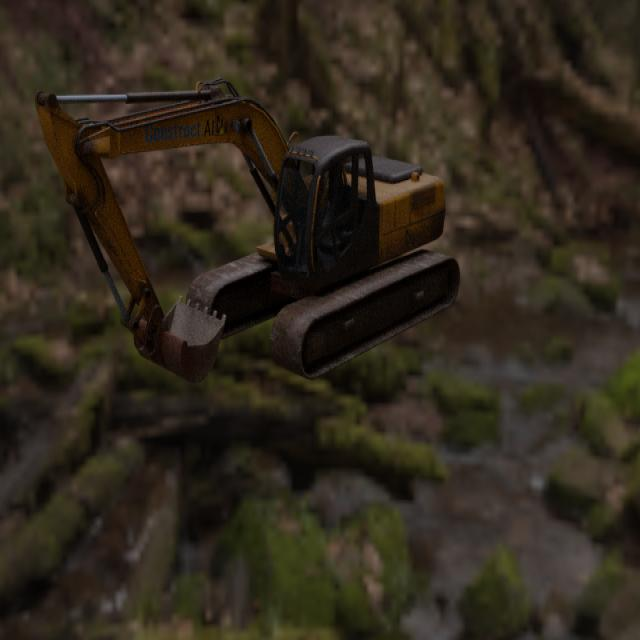excavator: (34, 76, 460, 384)
